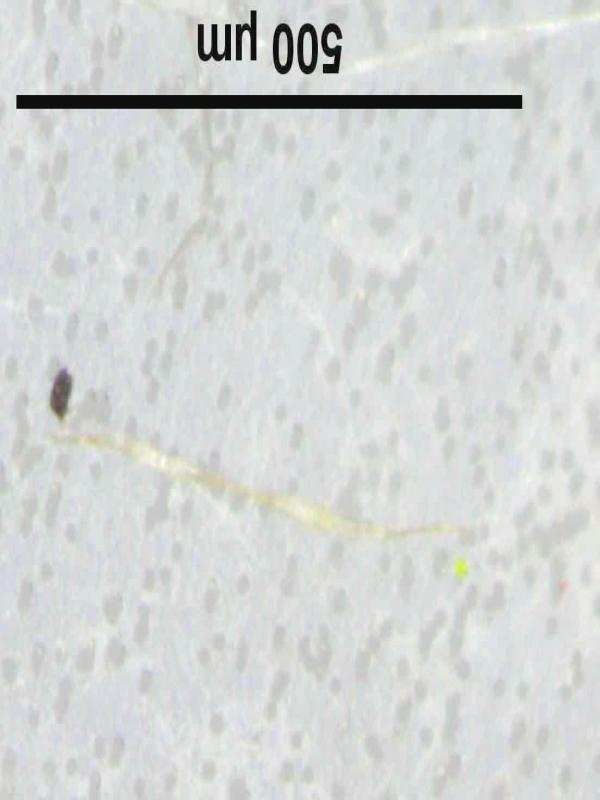microplastic: (45, 368, 472, 548)
